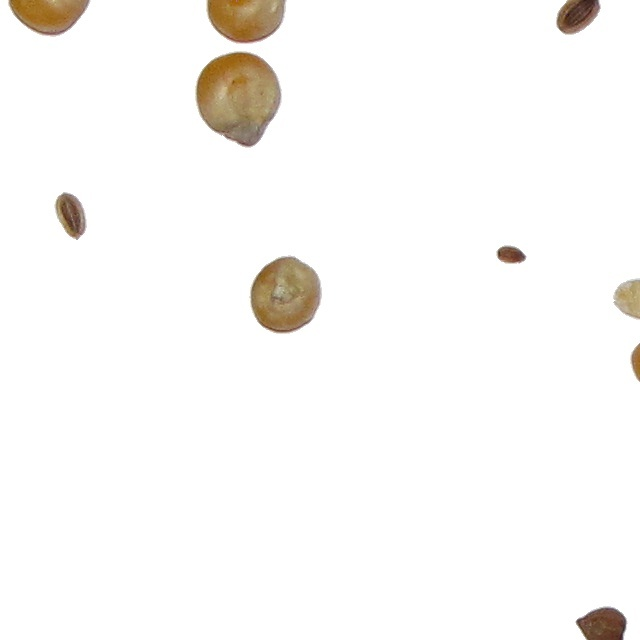buckwheat: (574, 605, 629, 640)
mais: (194, 50, 283, 149), (248, 254, 323, 335), (629, 324, 640, 408)
other: (56, 191, 91, 241), (612, 277, 640, 323), (495, 244, 528, 265)
